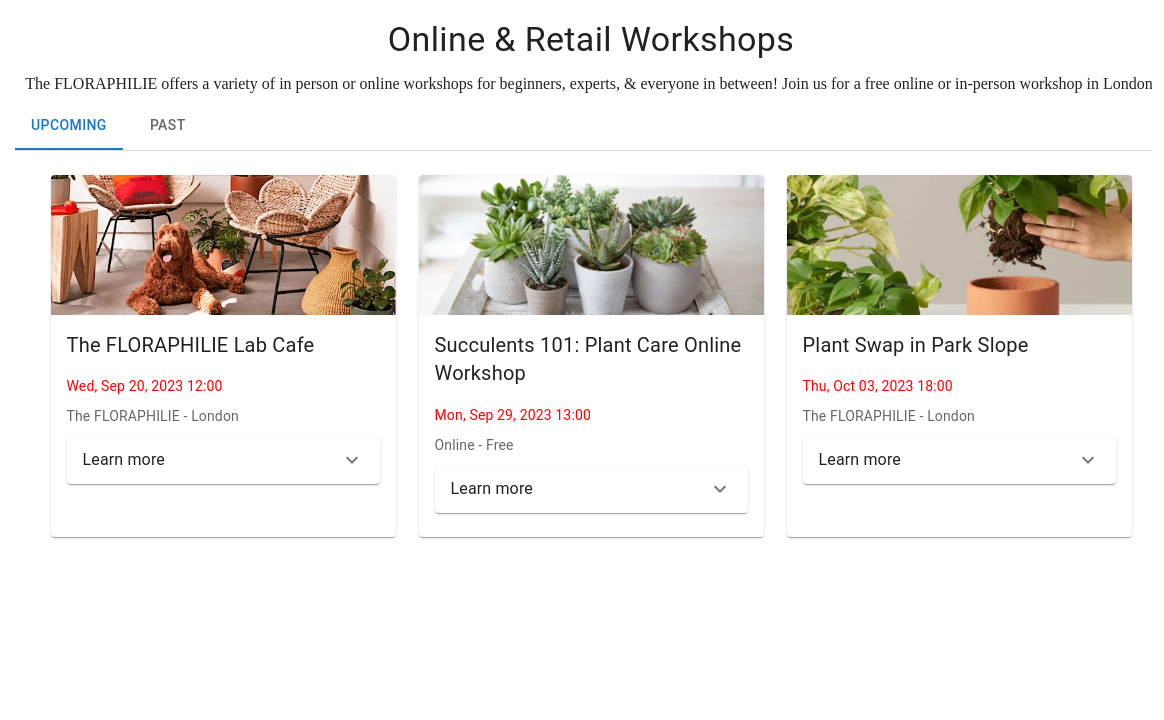
Test: should be rendered Workshops page: past events
The image size is (1164, 720).
Click the tab "Past" at (168, 126), box [123,102,213,150]
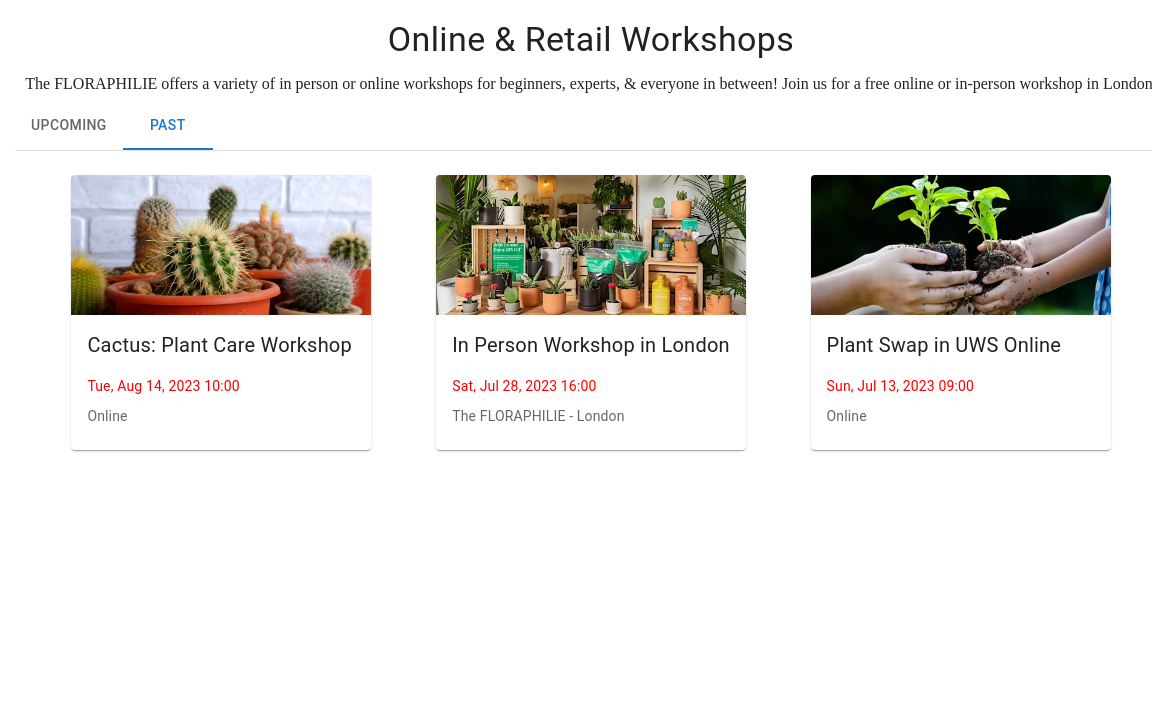
Check: the text "Cactus: Plant Care Workshop" is shown, box [87,330,355,359]
